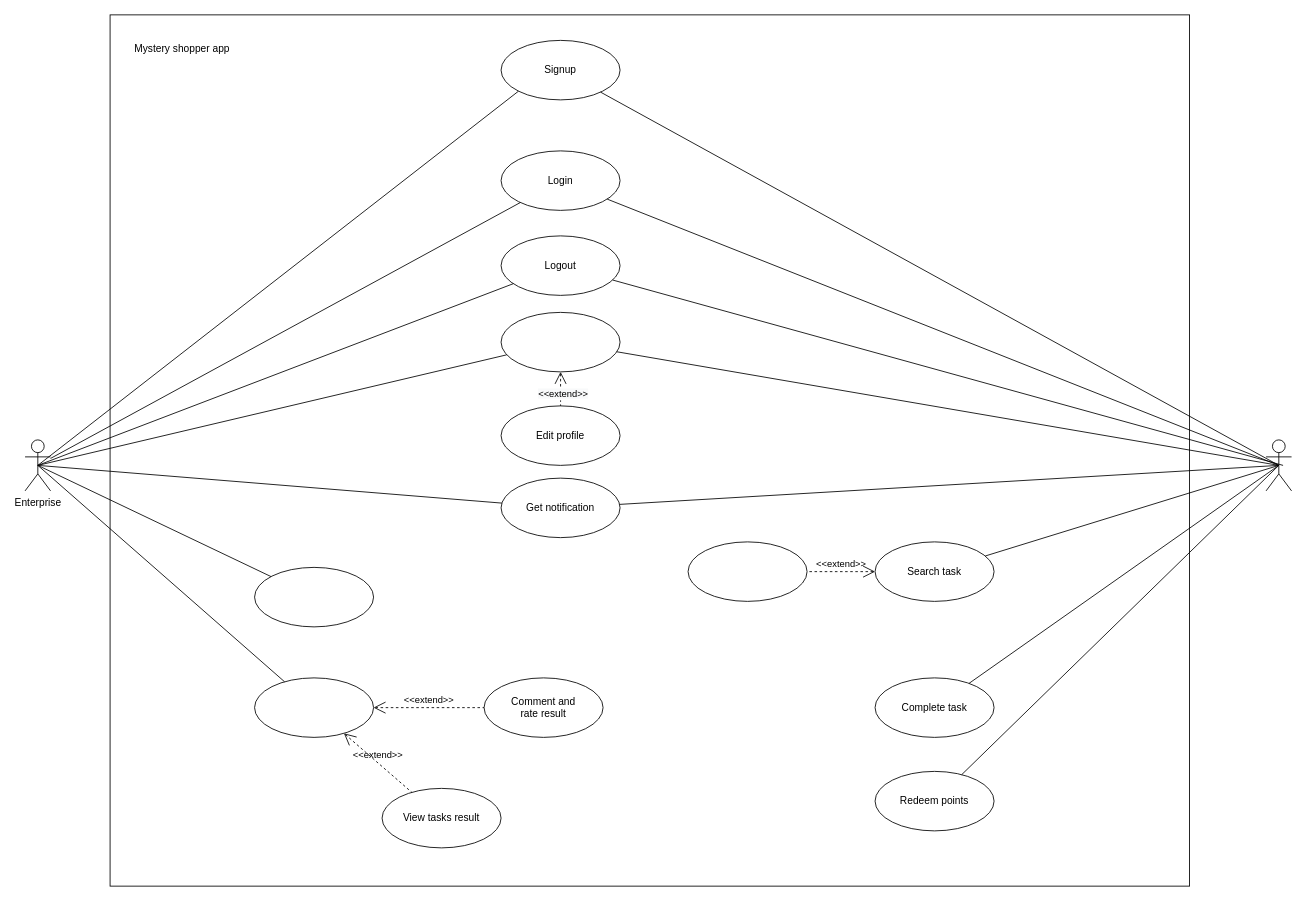
This 1314x901 diagram has some shape labels left out. Here are the shapes that lost their labels. From the top down, the centre of each, then its label:
(x=560, y=342): View profile
(x=1278, y=465): Inspector
(x=747, y=571): Reserve task
(x=314, y=597): Create task
(x=314, y=707): View own tasks
